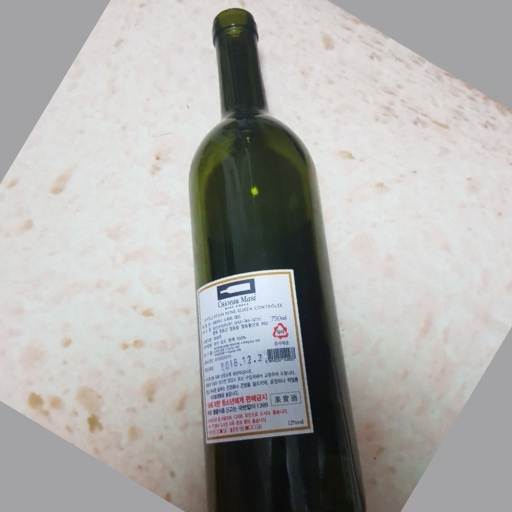Glass_2: (183, 7, 368, 512)
